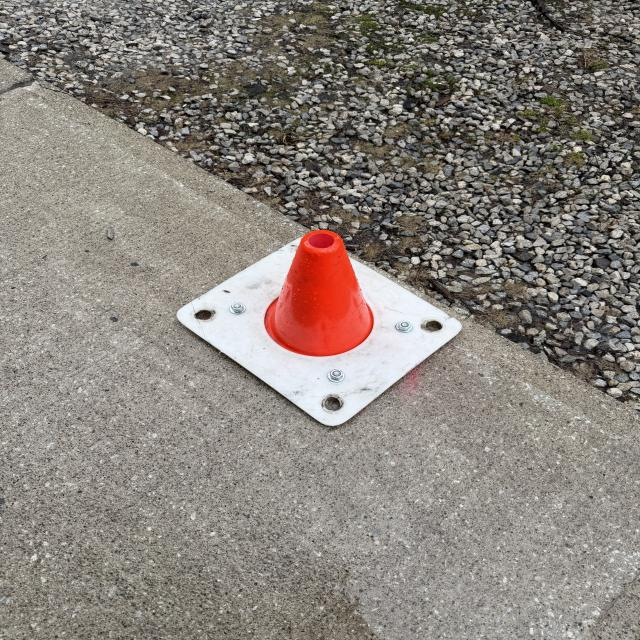Traffic Cone: (174, 230, 464, 427)
